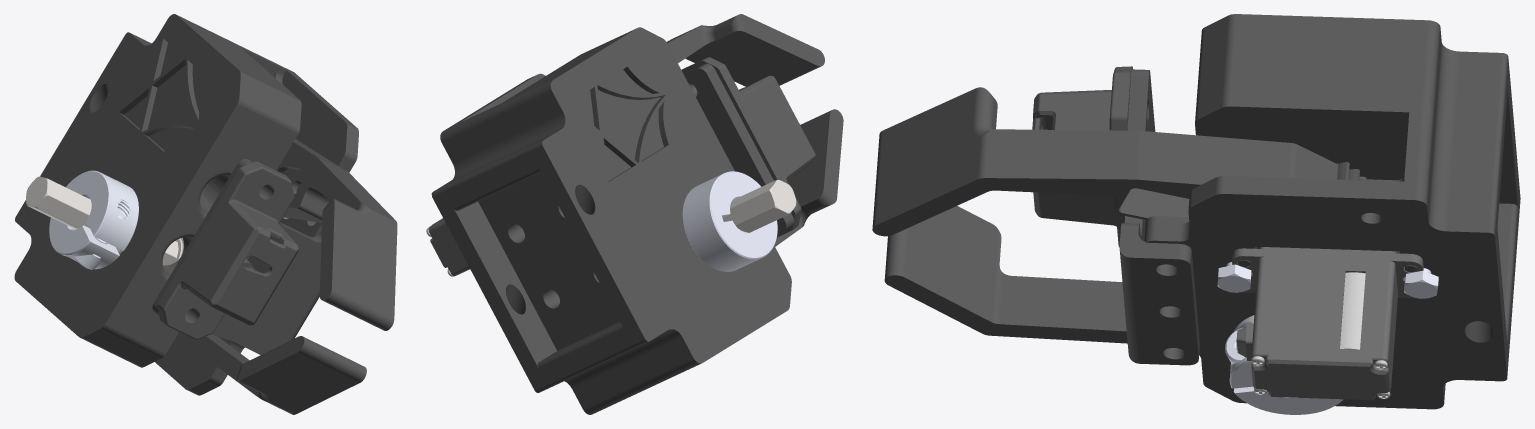
File: quixilver-claw.glb
The picture shows the model from 3 angles, left to right: view 1: azimuth 30°, elevation 25°; view 2: azimuth 150°, elevation 25°; view 3: azimuth 270°, elevation 25°; orthographic projection. The views are drawn at different scales.
Visible parts, largest first — view 1: 8mm hex flanged bearing insert, Pivoting Intake Claw Piece, Pivoting Intake Claw Piece Non Driven v2.STEP<1>; view 2: 8mm hex flanged bearing insert, Pivoting Intake Claw Piece, Pivoting Intake Claw Piece Non Driven v2.STEP<1>; view 3: 8mm hex flanged bearing insert, Pivoting Intake Claw Piece, Pivoting Intake Claw Piece Non Driven v2.STEP<1>.
Boxes of the visible parts, x1,y1,x2,y2 form: 8mm hex flanged bearing insert: [14, 14, 358, 395]; Pivoting Intake Claw Piece: [276, 139, 397, 330]; Pivoting Intake Claw Piece Non Driven v2.STEP<1>: [176, 332, 366, 414]; 8mm hex flanged bearing insert: [426, 27, 816, 414]; Pivoting Intake Claw Piece: [666, 14, 824, 86]; Pivoting Intake Claw Piece Non Driven v2.STEP<1>: [774, 109, 843, 246]; 8mm hex flanged bearing insert: [1032, 14, 1520, 414]; Pivoting Intake Claw Piece: [872, 87, 1366, 248]; Pivoting Intake Claw Piece Non Driven v2.STEP<1>: [884, 206, 1127, 343].
Bounding box in the file's own units: 0.0843 × 0.0767 × 0.1086.
Materials: 3 (1 with a texture image).
